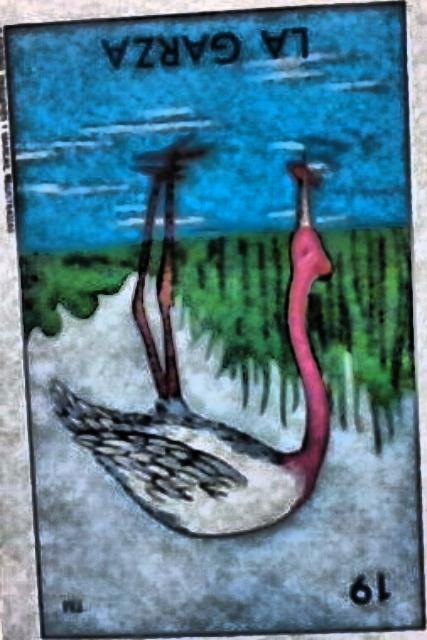El Garza: (0, 5, 426, 638)
